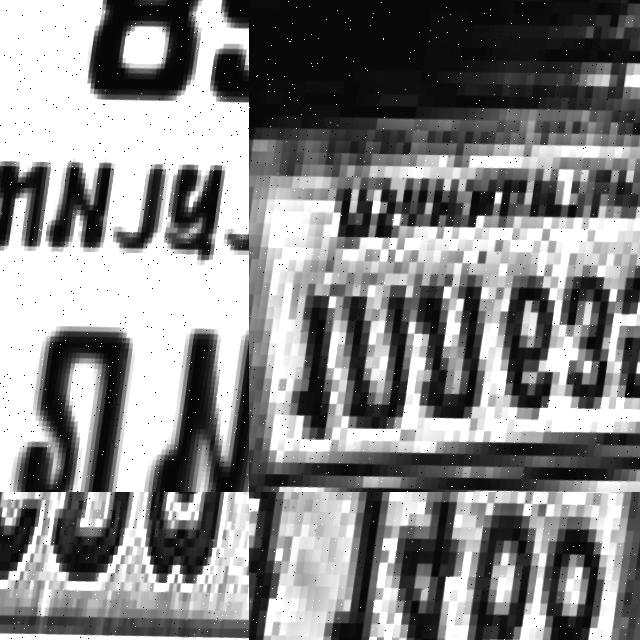license-plate: (249, 0, 640, 492), (0, 0, 249, 492), (249, 492, 640, 640), (0, 492, 249, 640)
